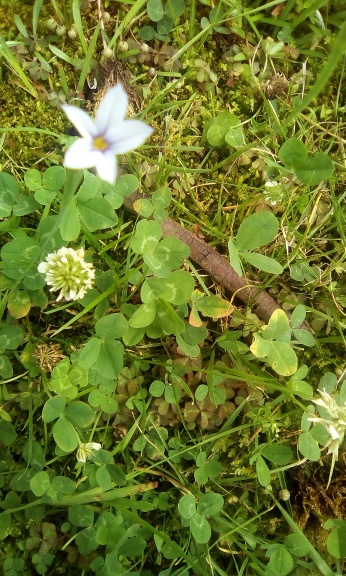4leaf: (128, 271, 195, 335)
